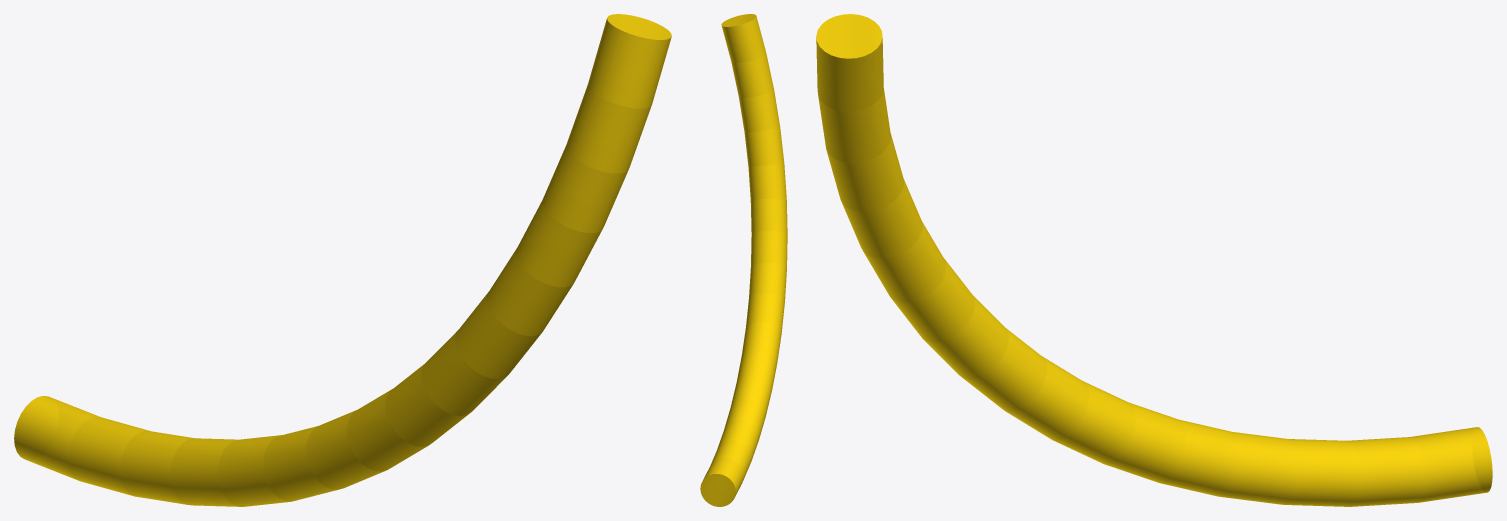
The model's file is Event_420107950_track_52.fbx.
The picture shows the model from 3 angles, left to right: view 1: azimuth 30°, elevation 25°; view 2: azimuth 150°, elevation 25°; view 3: azimuth 270°, elevation 25°; orthographic projection. The views are drawn at different scales.
Visible parts, largest first — view 1: Model; view 2: Model; view 3: Model.
Part boxes in pixels (left/top/right/bottom): Model: left=14, top=14, right=671, bottom=506; Model: left=700, top=14, right=787, bottom=506; Model: left=816, top=14, right=1492, bottom=506.
Bounding box in the file's own units: 0.2315 × 0.3977 × 0.4069.
